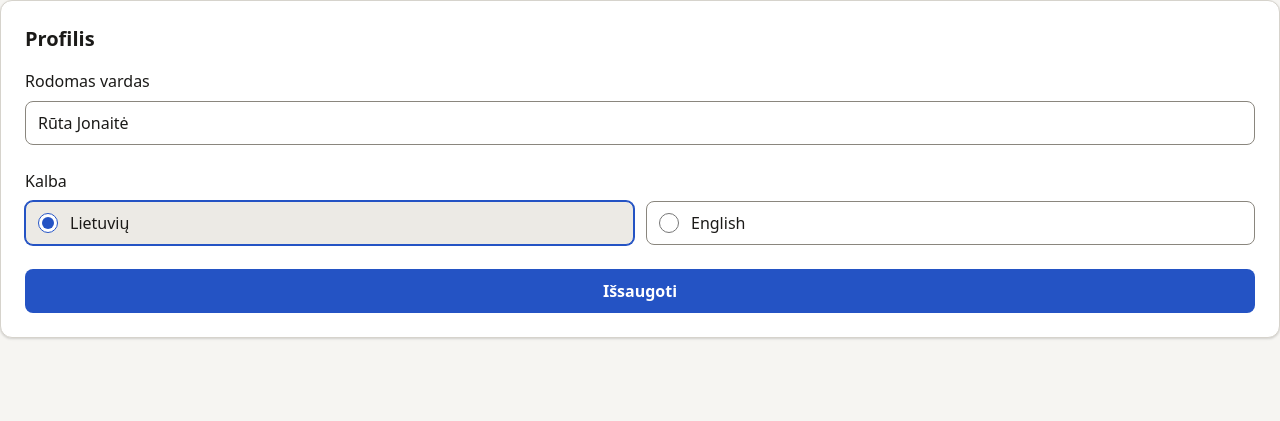
Test: ProfileForm › sends the changed name and language, then says it saved
Replace the text in the field labelled "Rodomas vardas" with "Rūta" at (640, 123), box [25,101,1255,145]
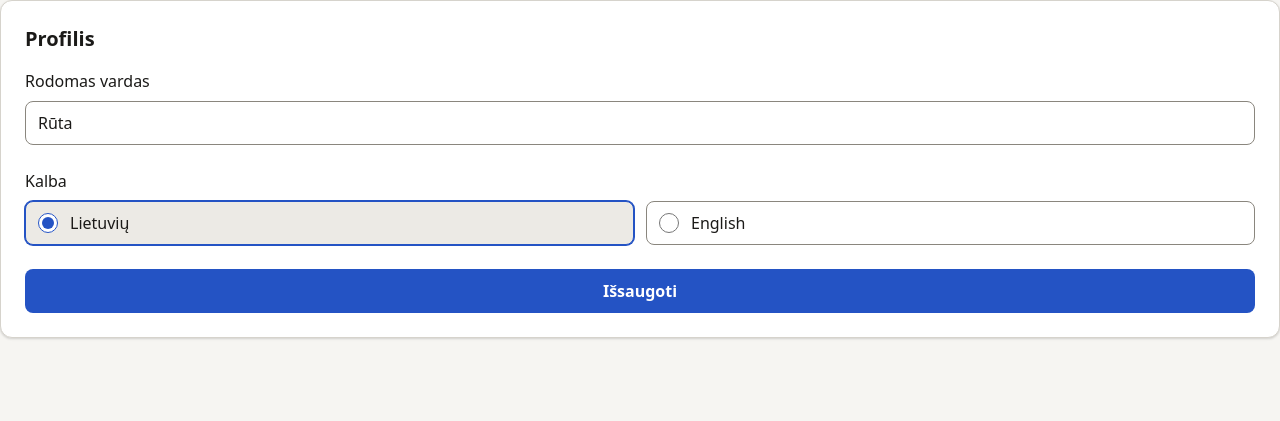
Click the radio button labelled "English".
click(669, 223)  # box [659,213,679,233]
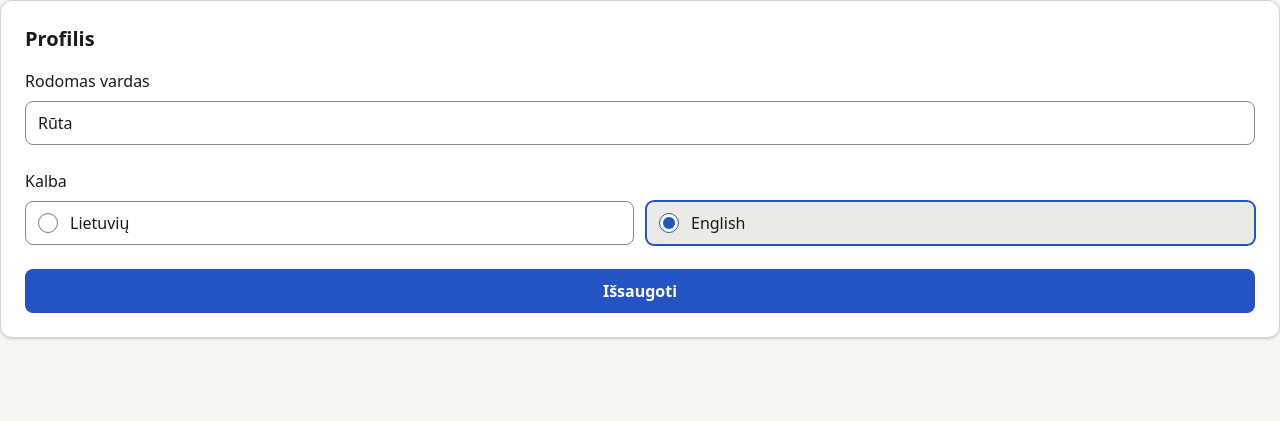
Click the button "Išsaugoti".
click(640, 291)  # box [25,269,1255,313]
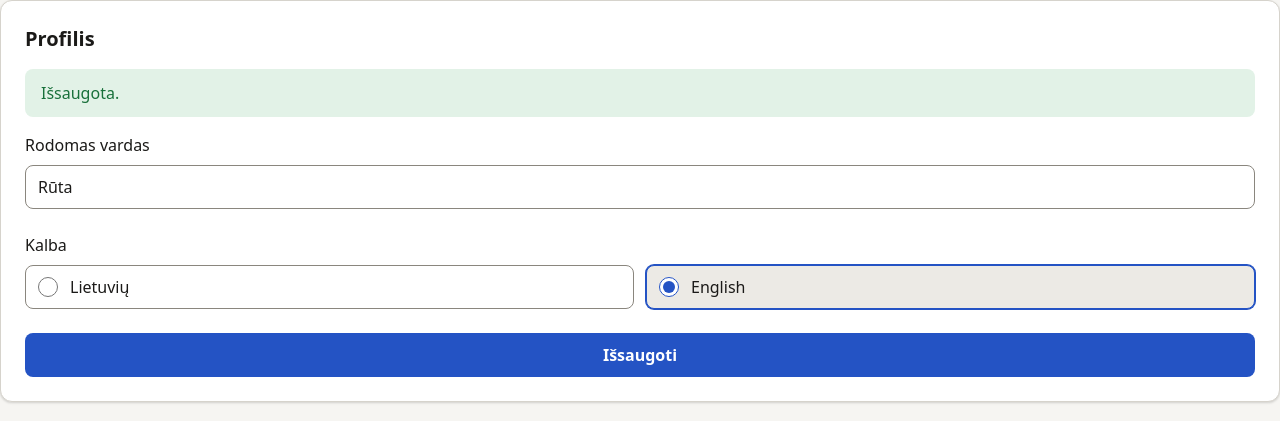
Check: the message reads "Išsaugota.", box [41,82,119,104]
